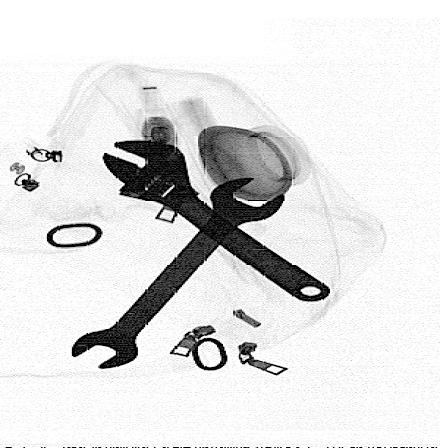Wrench: (72, 175, 286, 368), (102, 140, 332, 303)
